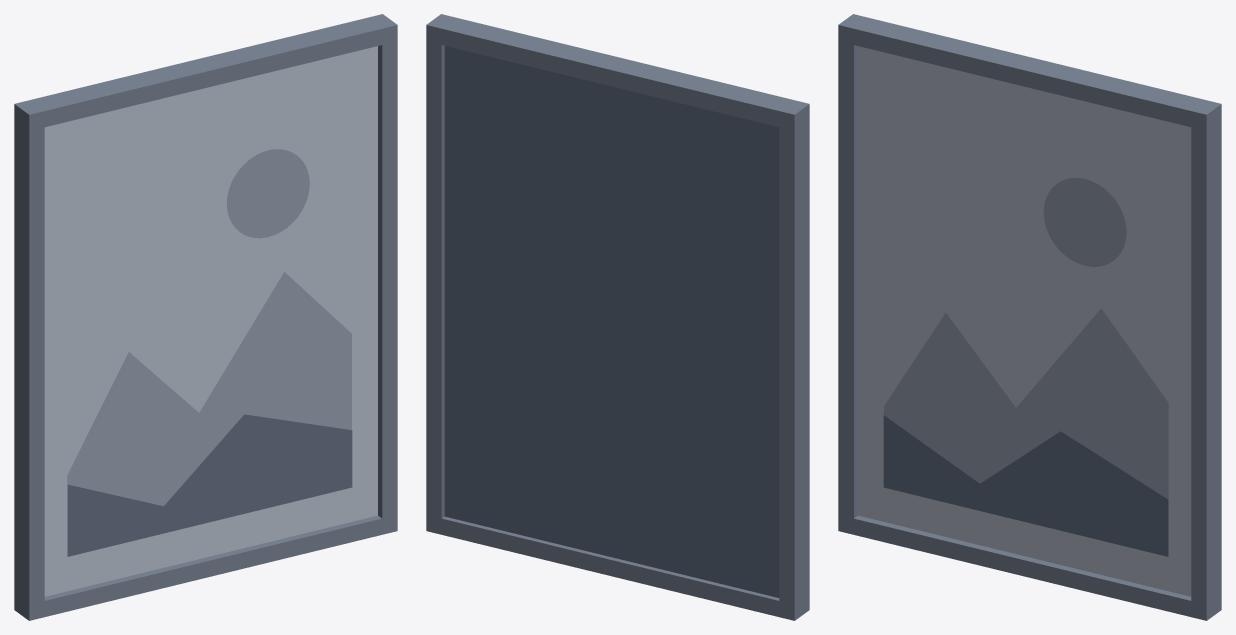
Rendered from 挂画-lite.glb.
The picture shows the model from 3 angles, left to right: view 1: azimuth 30°, elevation 25°; view 2: azimuth 150°, elevation 25°; view 3: azimuth 330°, elevation 25°; orthographic projection.
Parts seen in each view (by area): view 1: wall-art-light, wall-art-frame, wall-art-soft, wall-art-dark, wall-art-accent; view 2: wall-art-dark, wall-art-frame; view 3: wall-art-light, wall-art-frame, wall-art-soft, wall-art-dark, wall-art-accent.
Boxes of the visible parts, x1,y1,x2,y2 form: wall-art-light: (44, 46, 377, 596); wall-art-frame: (14, 14, 397, 620); wall-art-soft: (67, 272, 351, 556); wall-art-dark: (67, 414, 352, 556); wall-art-accent: (226, 149, 309, 238); wall-art-dark: (444, 46, 779, 597); wall-art-frame: (426, 14, 809, 620); wall-art-light: (858, 46, 1191, 596); wall-art-frame: (838, 14, 1221, 620); wall-art-soft: (884, 308, 1168, 556); wall-art-dark: (883, 415, 1168, 556); wall-art-accent: (1043, 178, 1126, 266).
Size of the model in its own units: 0.64 by 0.84 by 0.045.
